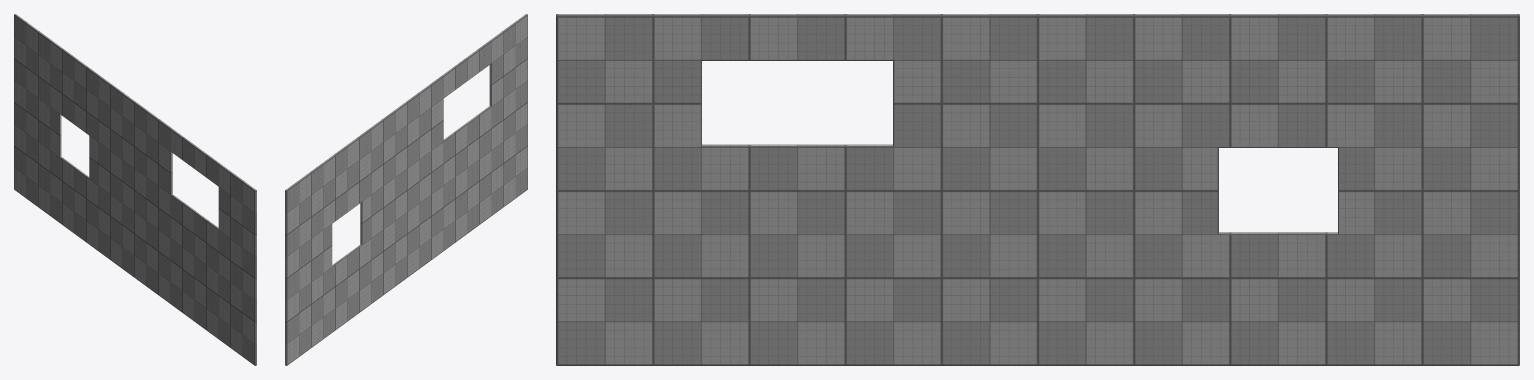
Rendered from Wall0x4x10Window.fbx.
3 views of the same model, side by side, from view 1: azimuth 30°, elevation 25°; view 2: azimuth 150°, elevation 25°; view 3: azimuth 270°, elevation 25° (orthographic). The views are drawn at different scales.
Visible parts, largest first — view 1: Wall0x4x10Window; view 2: Wall0x4x10Window; view 3: Wall0x4x10Window.
Boxes of the visible parts, x1,y1,x2,y2 form: Wall0x4x10Window: (14,14,256,365); Wall0x4x10Window: (285,14,527,365); Wall0x4x10Window: (556,14,1519,365).
Bounding box in the file's own units: 5 × 402 × 1003.
